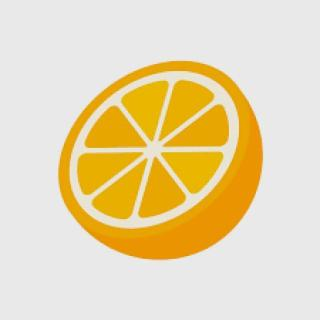orange: (44, 52, 270, 272)
